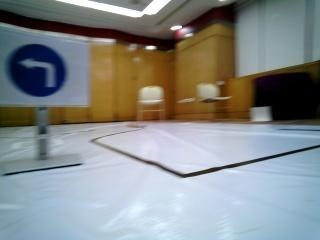left: (5, 32, 92, 103)
